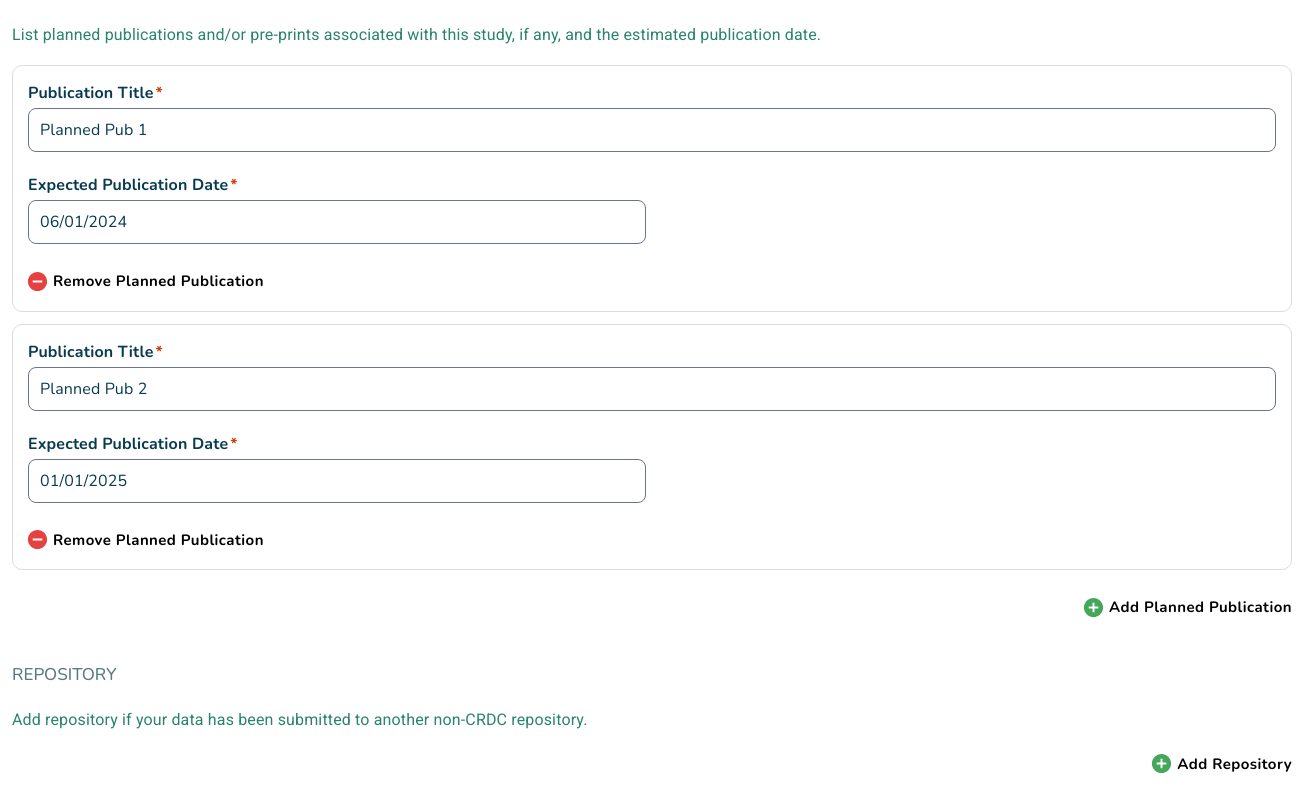
it: Basic Functionality › should remove a planned publication when remove button is clicked
The image size is (1304, 800).
(page scrolled)
expect the element with test id "section-b-planned-publication-0" is shown: met, box [12,65,1292,312]
expect the element with test id "section-b-planned-publication-1" is shown: met, box [12,324,1292,570]
Step 1. Click the 2nd button "Remove Planned Publication" → (146, 540), box [28,528,264,551]
(page scrolled)
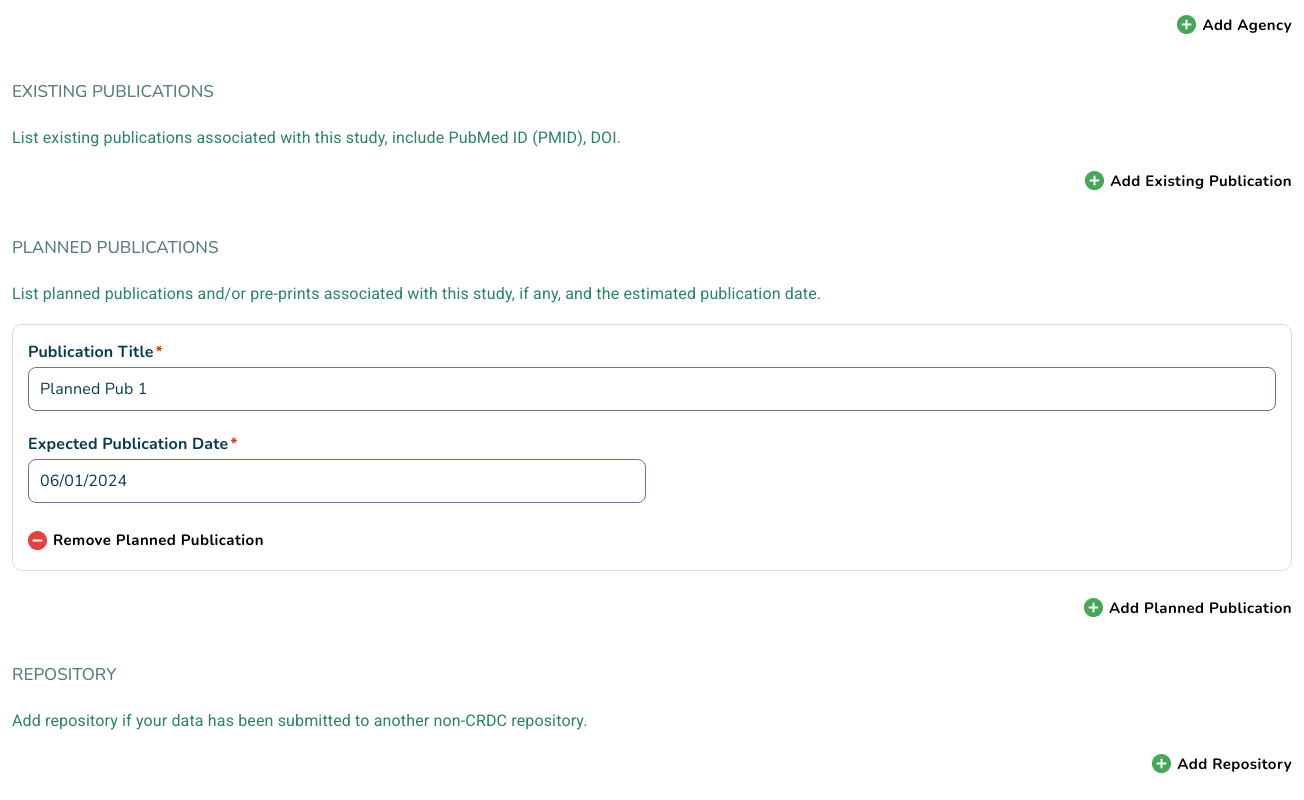
expect the element with test id "section-b-planned-publication-0" is shown: met, box [12,324,1292,571]
expect the element with test id "section-b-planned-publication-1" is gone: met
